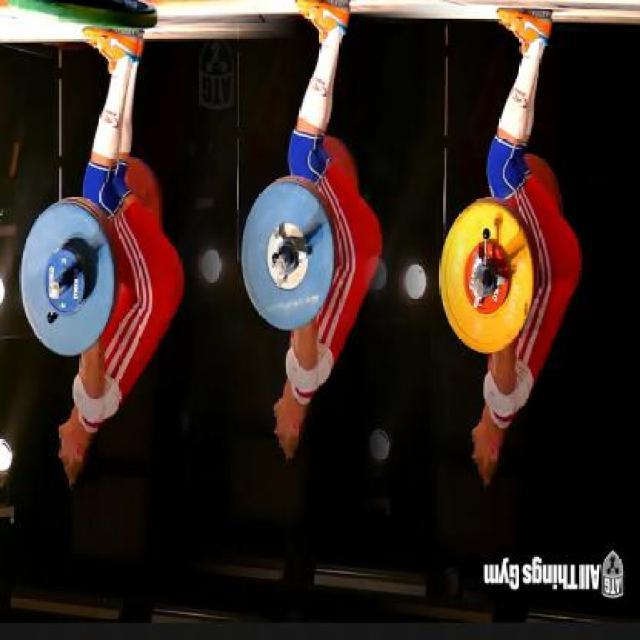Barbell: (469, 277, 486, 303), (273, 256, 290, 281), (46, 278, 62, 304)
